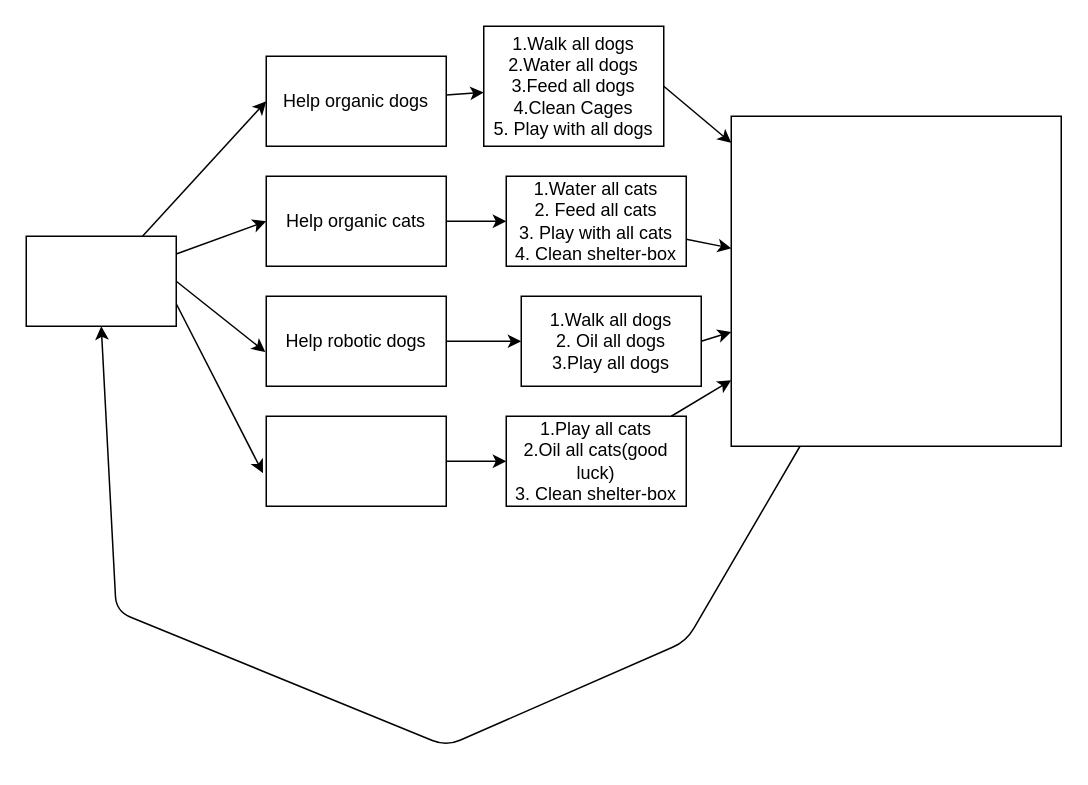
This 1088x785 diagram has some shape labels left out. The centre of each missing label's shape, as x and y in pixels:
Help robotic cats: (355,460)
onTick, modify pet stats according to user's choice: (895,280)
what would you like to do today?: (100,280)
